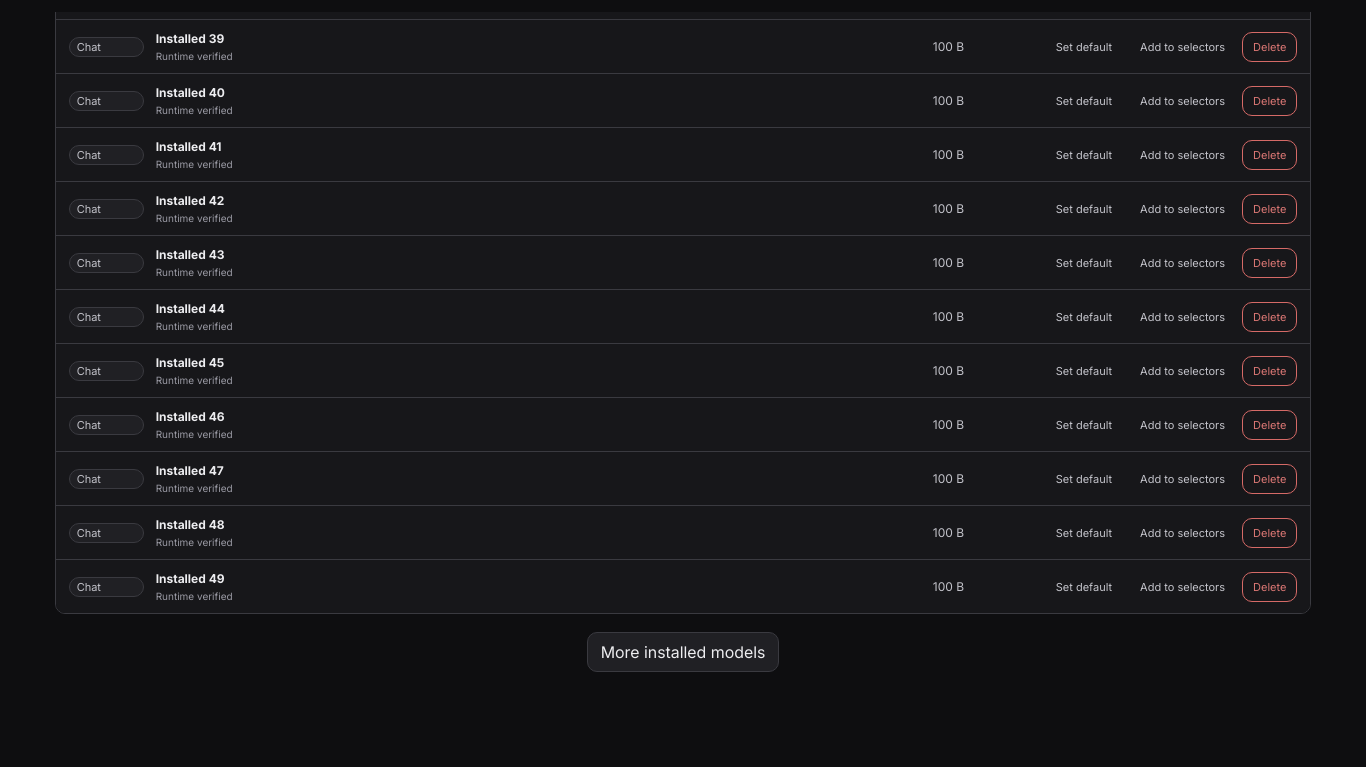
Test: pages installed models and reads only each displayed model's first eligible profile
(page scrolled)
Click the button "More installed models": (683, 652) [587,632,779,672]
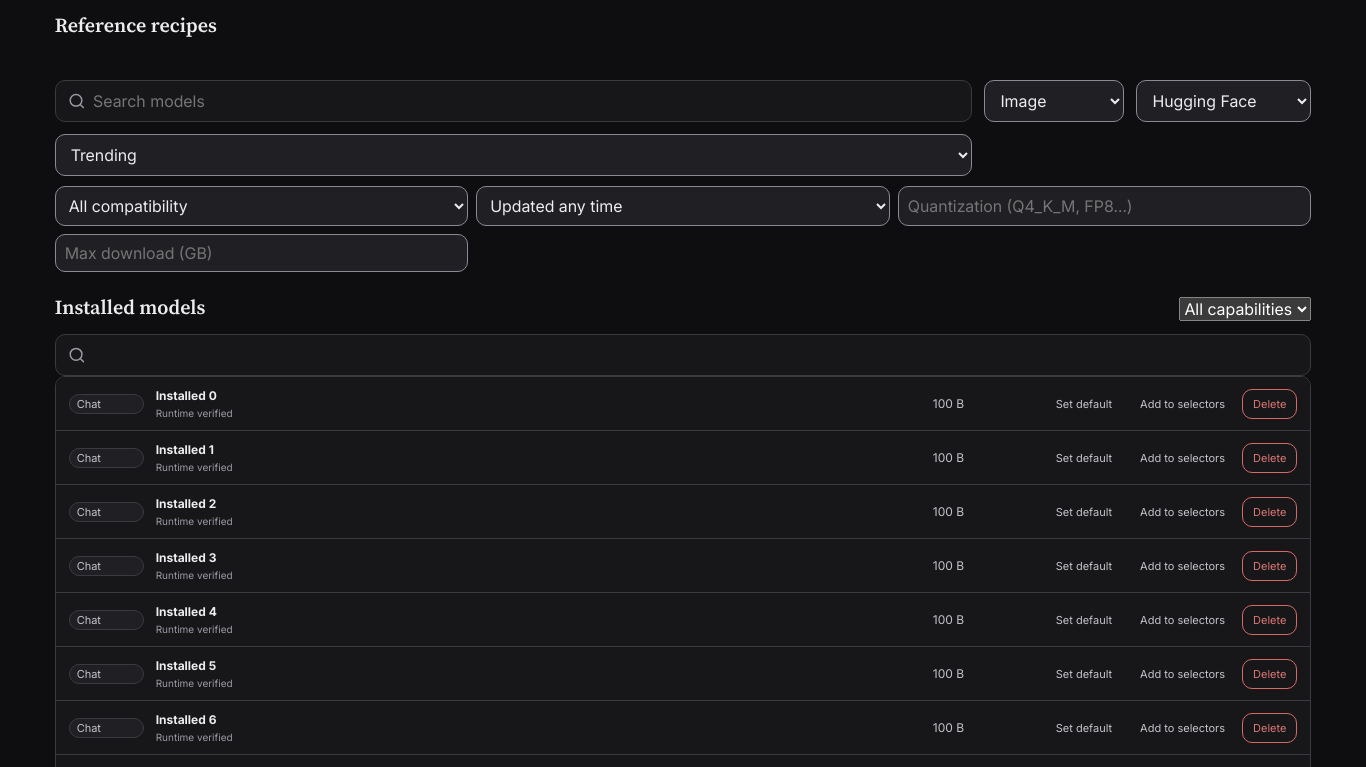
Result: the text "Installed 0" is shown at [156,388,217,403]
